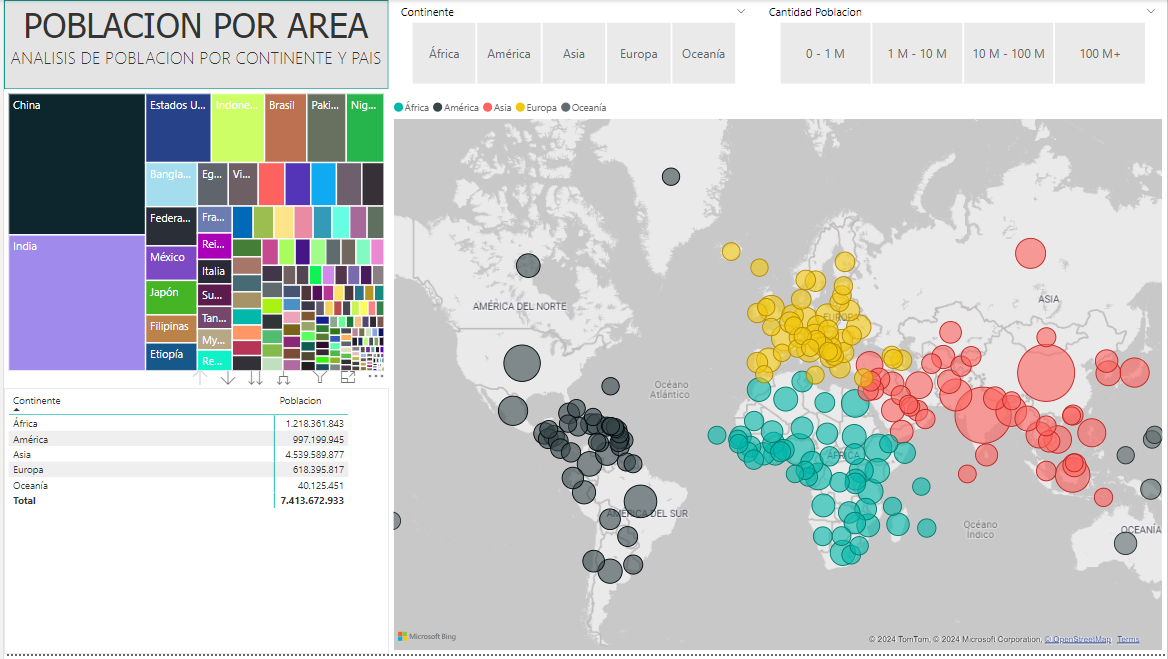

Layout of this report page (visuals, bound fields, positions):
{"tool":"powerbi","page":{"name":"Poblacion por Area","canvas":[1280,720],"ordinal":0},"visuals":[{"type":"pivotTable","fields":{"Rows":["Paises.Continente","Paises.Pais"],"Values":["Sum(Population.Poblacion)"]},"box":[0,427,423.7,292.8],"z":0},{"type":"slicer","fields":{"Values":["Paises.Continente"]},"box":[423.8,0,405,98.8],"z":1000},{"type":"slicer","fields":{"Values":["Population.Cantidad Poblacion"]},"box":[828.9,0,451.1,98.9],"z":2000},{"type":"map","fields":{"Size":["Sum(Population.Poblacion)"],"Category":["Paises.Pais"],"Series":["Paises.Continente"]},"box":[423.8,98.8,856.2,621.2],"z":3000},{"type":"treemap","fields":{"Group":["Paises.Pais"],"Values":["Sum(Population.Poblacion)"]},"box":[0,98.3,423.3,315],"z":4000},{"type":"shape","box":[0,0,423.3,98.3],"z":5000},{"type":"textbox","box":[0,0,422.2,98.9],"z":6000}]}

Visuals, with their boxes in screenshot pixels (x1, y1, x2, y2), scaled from the page's 1280x720 canvas onto the 1168x659 screenshot:
pivotTable - Paises.Continente x Paises.Pais: [x1=0, y1=391, x2=387, y2=658]
slicer - Paises.Continente: [x1=387, y1=0, x2=756, y2=90]
slicer - Population.Cantidad Poblacion: [x1=756, y1=0, x2=1167, y2=91]
map - Sum(Population.Poblacion) x Paises.Pais: [x1=387, y1=90, x2=1167, y2=658]
treemap - Paises.Pais x Sum(Population.Poblacion): [x1=0, y1=90, x2=386, y2=378]
shape: [x1=0, y1=0, x2=386, y2=90]
textbox: [x1=0, y1=0, x2=385, y2=91]
